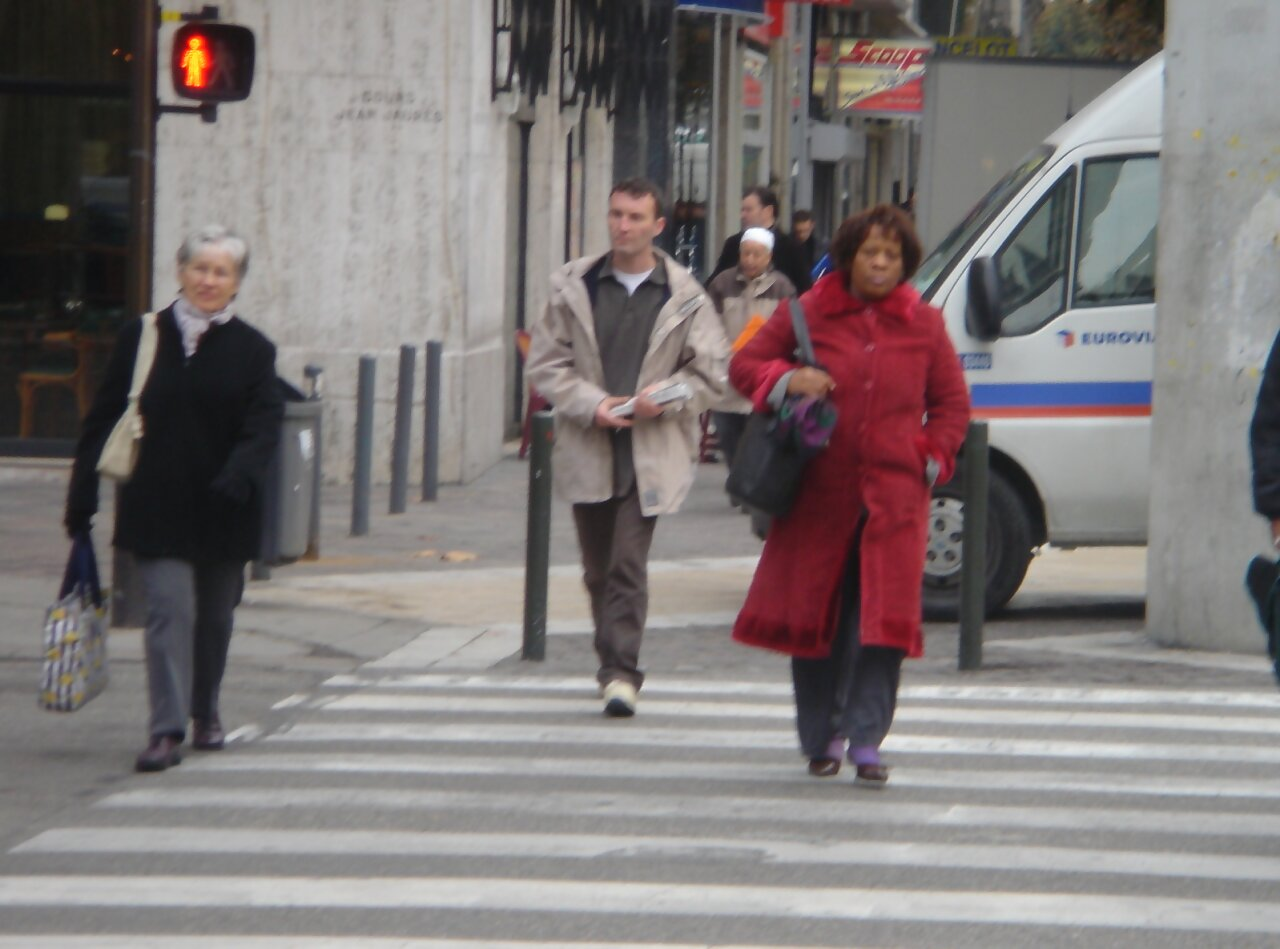person: (728, 202, 975, 793), (58, 223, 284, 773), (527, 172, 720, 722)
